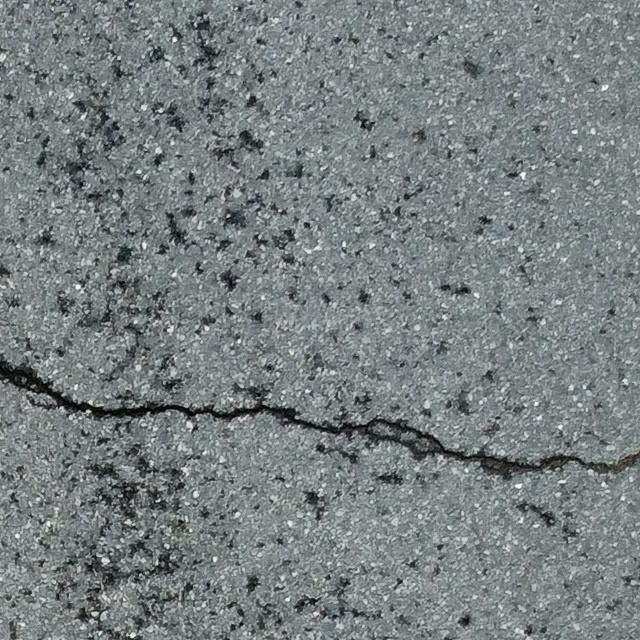TransverseCrack: (1, 353, 640, 481)
